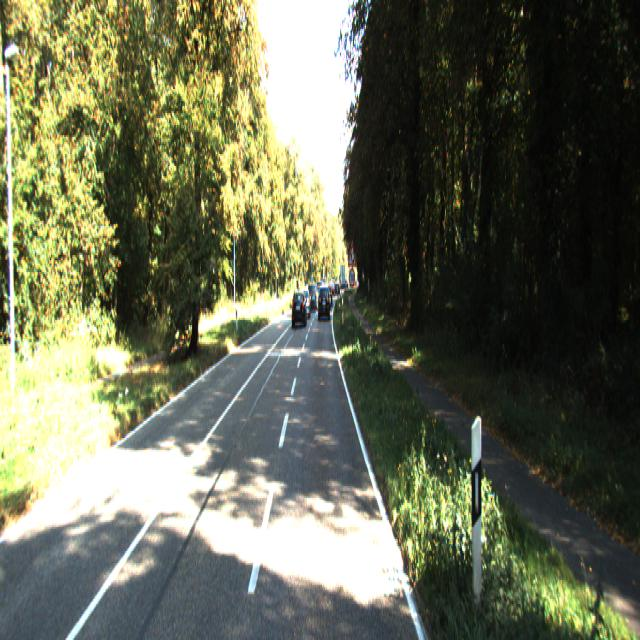Car: (292, 286, 307, 325), (318, 280, 331, 316)
